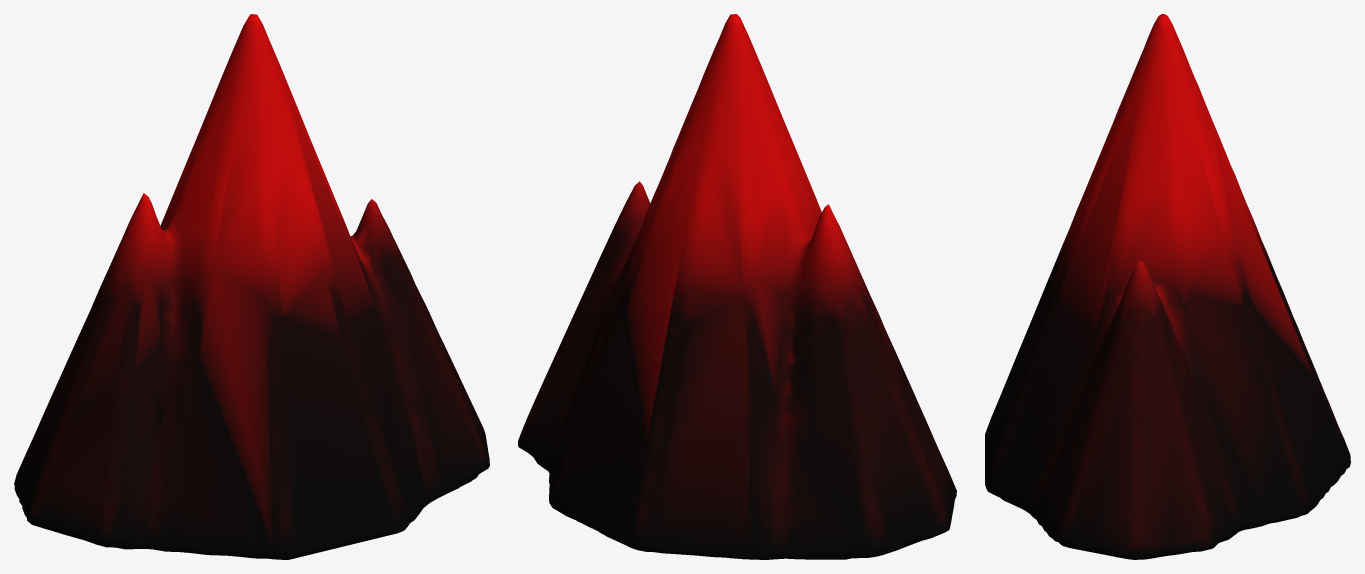
File: bg-frost-a.glb
3 views of the same model, side by side, from view 1: azimuth 30°, elevation 25°; view 2: azimuth 150°, elevation 25°; view 3: azimuth 270°, elevation 25° (orthographic). The views are drawn at different scales.
Visible parts, largest first — view 1: peak; view 2: peak; view 3: peak.
Part boxes in pixels (bbox=[...]): peak: bbox=[14, 14, 489, 559]; peak: bbox=[518, 14, 956, 559]; peak: bbox=[985, 14, 1350, 559].
Size of the model in its own units: 13.02 by 13.51 by 9.84.
